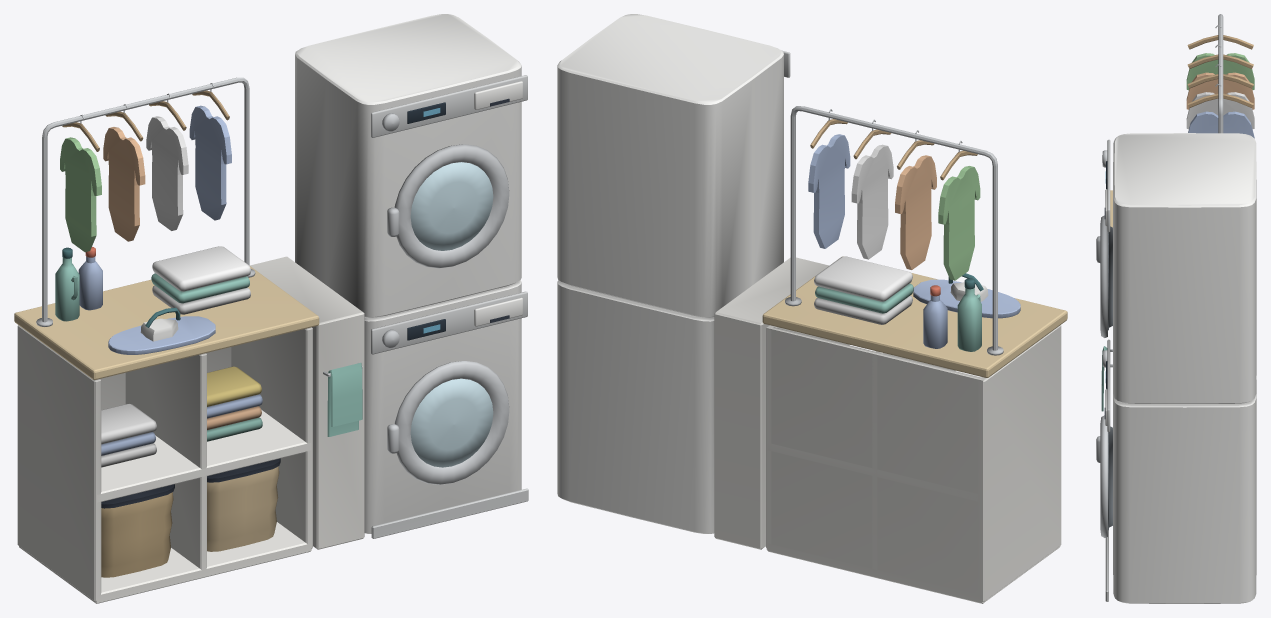
Rendered from laundryCenter.glb.
3 renders of one model, left to right at view 1: azimuth 30°, elevation 25°; view 2: azimuth 150°, elevation 25°; view 3: azimuth 270°, elevation 25°, orthographic. The views are drawn at different scales.
Parts seen in each view (by area): view 1: body, door; view 2: body; view 3: body, door.
Part boxes in pixels (x1,y1,x2,y2): body: [14, 14, 528, 603]; door: [387, 361, 509, 484]; body: [557, 14, 1067, 603]; body: [1096, 14, 1256, 603]; door: [1096, 415, 1107, 537].
Bounding box in the file's own units: 1.82 × 1.74 × 0.625.
